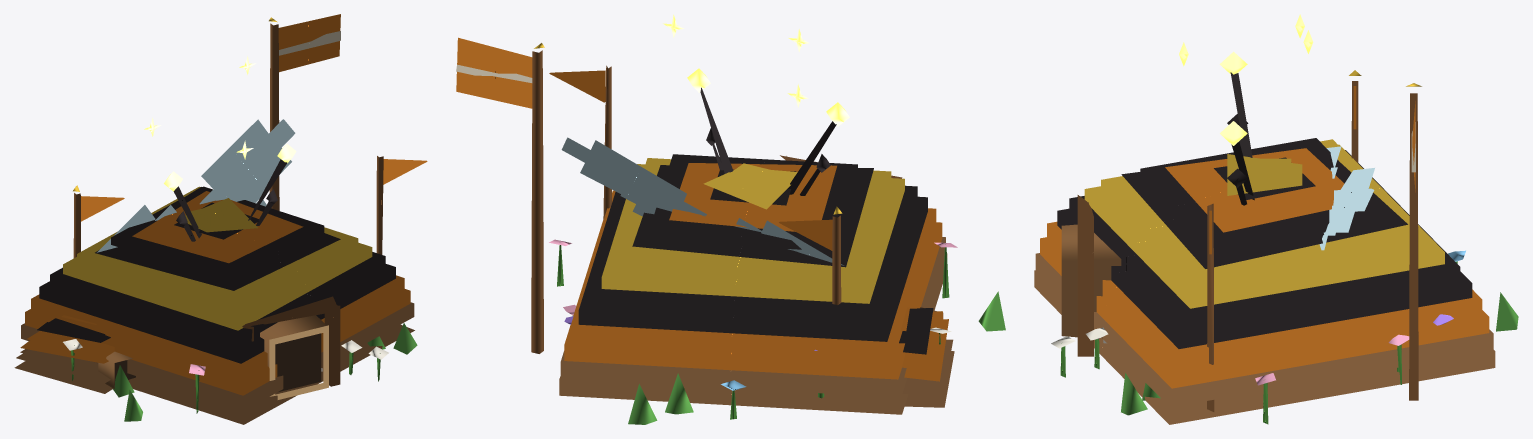
Rendered from bumblebee-burrow-blocky_lod1.glb.
3 views of the same model, side by side, from view 1: azimuth 30°, elevation 25°; view 2: azimuth 150°, elevation 25°; view 3: azimuth 270°, elevation 25° (orthographic). The views are drawn at different scales.
Visible parts, largest first — view 1: lv3, lv2; view 2: lv3, lv2; view 3: lv3, lv2.
Part boxes in pixels (left/top/right/bottom): lv3: left=14, top=14, right=427, bottom=424; lv2: left=73, top=178, right=385, bottom=397; lv3: left=456, top=14, right=1005, bottom=424; lv2: left=563, top=128, right=877, bottom=414; lv3: left=1034, top=14, right=1518, bottom=424; lv2: left=1086, top=70, right=1409, bottom=405.
Size of the model in its own units: 1.96 by 1.35 by 1.79.
